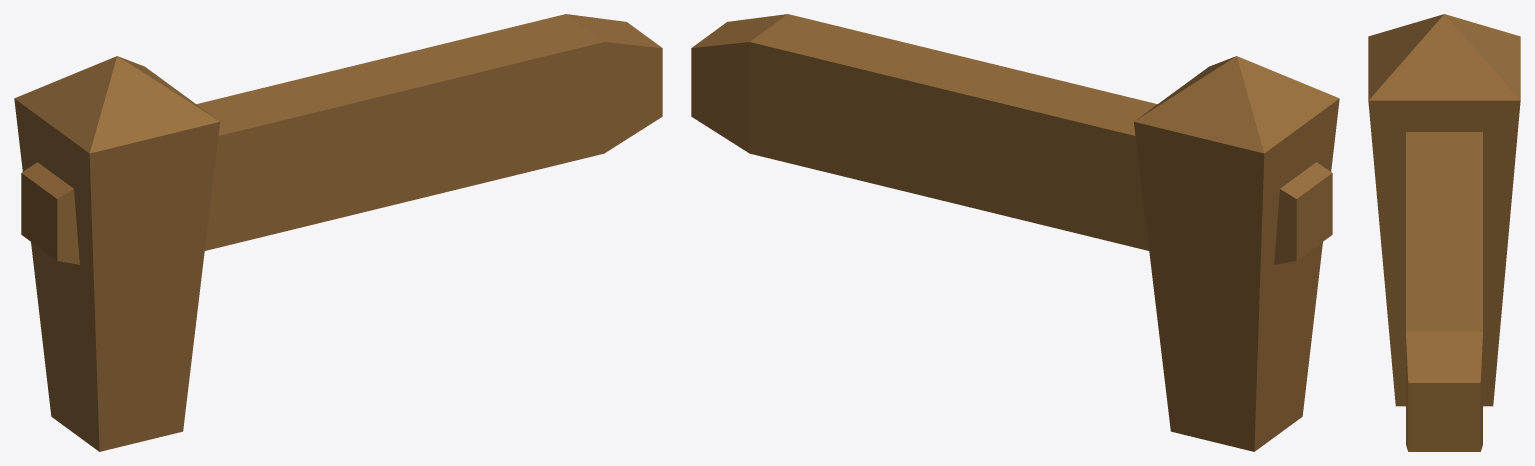
Rendered from wood_fence_01_bar.glb.
3 views of the same model, side by side, from view 1: azimuth 30°, elevation 25°; view 2: azimuth 150°, elevation 25°; view 3: azimuth 270°, elevation 25° (orthographic).
Parts seen in each view (by area): view 1: rural_fence_01_plank.005; view 2: rural_fence_01_plank.005; view 3: rural_fence_01_plank.005.
Boxes of the visible parts, x1,y1,x2,y2 form: rural_fence_01_plank.005: [14, 14, 662, 451]; rural_fence_01_plank.005: [691, 14, 1339, 451]; rural_fence_01_plank.005: [1368, 14, 1520, 451].
Size of the model in its own units: 2.61 by 1.51 by 0.5622.
